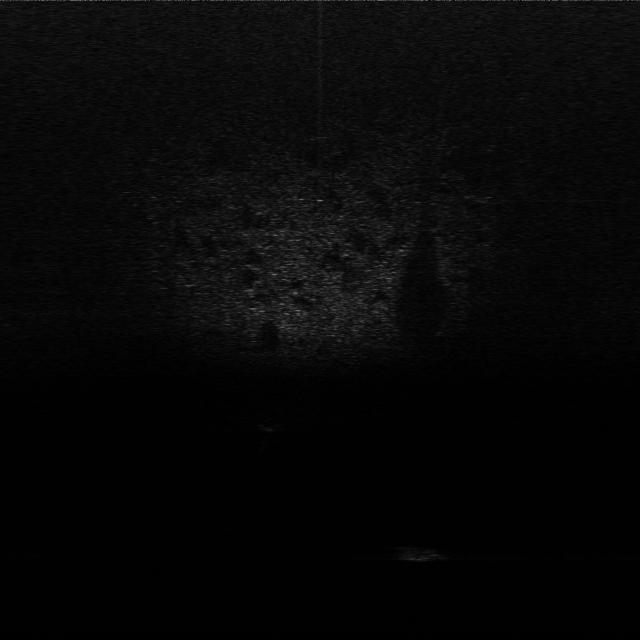ball: (256, 415, 286, 435)
metal bucket: (386, 532, 456, 568)
